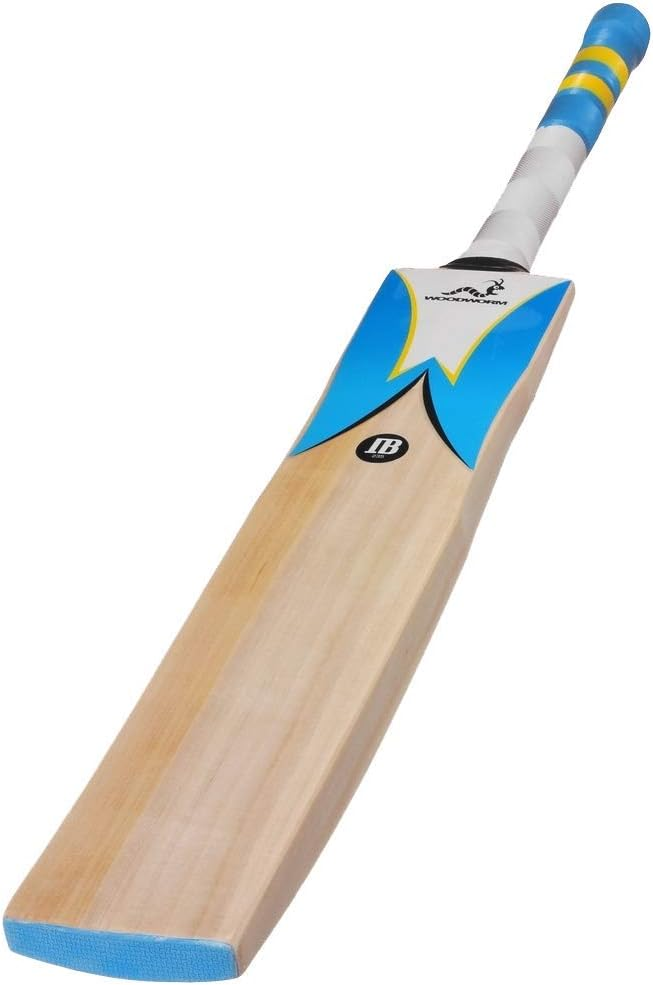bottom left: (1, 873, 71, 944)
bottom right: (189, 897, 277, 985)
top left: (364, 238, 420, 294)
top right: (534, 258, 602, 326)
